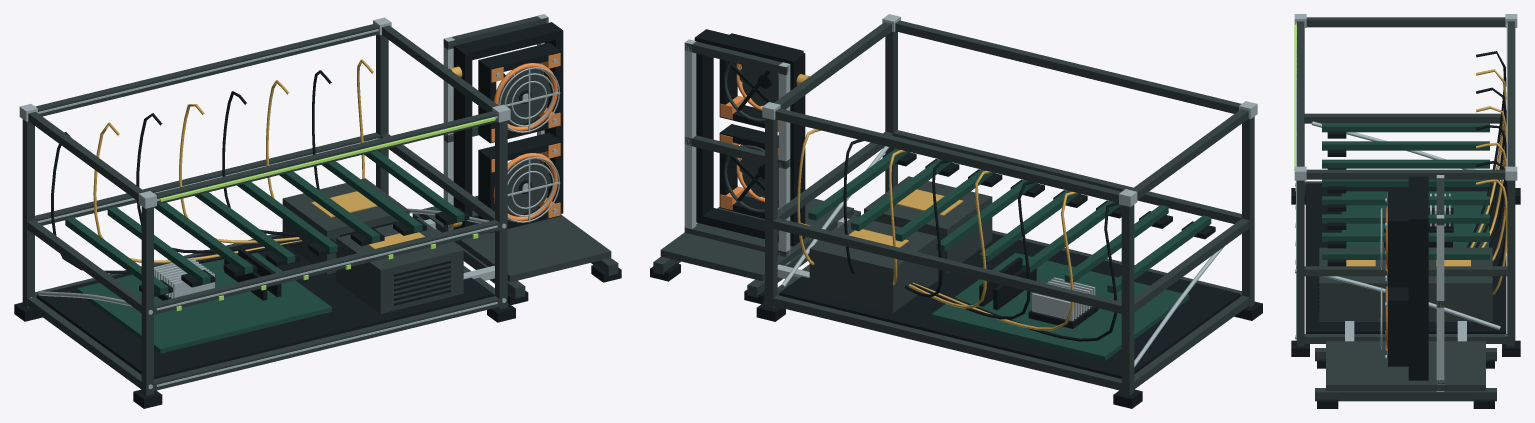
The model's file is rig-8-frame-air.glb.
The picture shows the model from 3 angles, left to right: view 1: azimuth 30°, elevation 25°; view 2: azimuth 150°, elevation 25°; view 3: azimuth 270°, elevation 25°; orthographic projection. The views are drawn at different scales.
Visible parts, largest first — view 1: Anodized graphite (×4), Rubber and ABS (×4), Circuit board, Brushed aluminium (×4), Industrial orange (×2), rig-8-frame-air, Contacts, slot-cable-1, slot-cable-2, slot-cable-3, slot-cable-4, slot-cable-5; view 2: Anodized graphite (×3), Rubber and ABS (×4), Circuit board, Brushed aluminium (×2), Industrial orange (×2), Contacts, slot-cable-1, slot-cable-2, slot-cable-3, slot-cable-4, slot-cable-5; view 3: Anodized graphite (×2), Rubber and ABS (×5), Circuit board, Brushed aluminium (×2), slot-cable-1, slot-cable-2, slot-cable-3, slot-cable-8, Contacts, slot-cable-4, slot-cable-5, rig-8-frame-air (+2 smaller).
Boxes of the visible parts, box(x1,y1,x2,y2) form: Anodized graphite (×4): box(22, 16, 618, 395); Rubber and ABS (×4): box(14, 22, 563, 408); Circuit board: box(65, 151, 464, 353); Brushed aluminium (×4): box(19, 14, 560, 389); Industrial orange (×2): box(491, 53, 560, 221); rig-8-frame-air: box(160, 117, 495, 201); Contacts: box(311, 191, 424, 248); slot-cable-1: box(51, 132, 303, 273); slot-cable-2: box(93, 122, 301, 263); slot-cable-3: box(136, 113, 300, 253); slot-cable-4: box(179, 104, 299, 243); slot-cable-5: box(222, 91, 295, 235); Anodized graphite (×3): box(653, 20, 1254, 395); Rubber and ABS (×4): box(694, 29, 1262, 408); Circuit board: box(808, 148, 1211, 360); Brushed aluminium (×2): box(684, 14, 1257, 367); Industrial orange (×2): box(720, 63, 778, 210); Contacts: box(848, 189, 963, 247); slot-cable-1: box(913, 202, 1118, 341); slot-cable-2: box(912, 191, 1076, 330); slot-cable-3: box(911, 181, 1034, 319); slot-cable-4: box(909, 170, 991, 308); slot-cable-5: box(904, 160, 948, 297); Anodized graphite (×2): box(1296, 17, 1515, 401); Rubber and ABS (×5): box(1291, 131, 1520, 408); Circuit board: box(1322, 123, 1489, 259); Brushed aluminium (×2): box(1294, 14, 1517, 391); slot-cable-1: box(1467, 51, 1506, 247); slot-cable-2: box(1470, 69, 1506, 247); slot-cable-3: box(1475, 87, 1506, 247); slot-cable-8: box(1476, 179, 1507, 295); Contacts: box(1346, 260, 1470, 266); slot-cable-4: box(1476, 106, 1506, 247); slot-cable-5: box(1476, 125, 1506, 247); rig-8-frame-air: box(1294, 24, 1296, 170).
Size of the model in its own units: 8.02 by 3.32 by 3.66.
